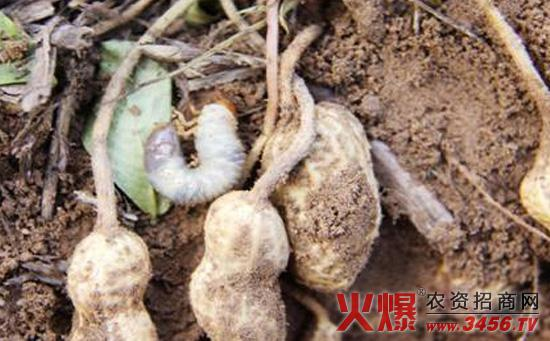grub: (132, 90, 254, 214)
